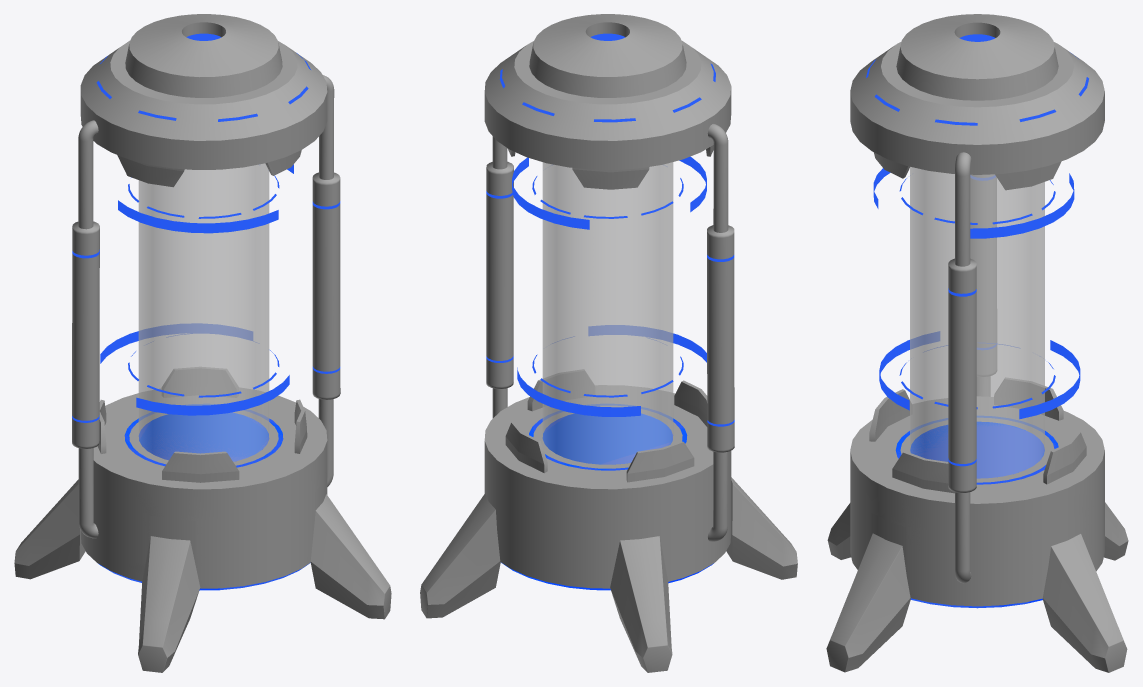
File: capsule_new_legs.glb
The picture shows the model from 3 angles, left to right: view 1: azimuth 30°, elevation 25°; view 2: azimuth 150°, elevation 25°; view 3: azimuth 270°, elevation 25°; orthographic projection. The views are drawn at different scales.
Visible parts, largest first — view 1: Cylinder.052, Cylinder.055, Cylinder.049, Cylinder.030, Cylinder.042, Cylinder.033, Cylinder.053, Cylinder.034, Cylinder.032, Cylinder.037, Cylinder.051, Cylinder.048 (+7 smaller); view 2: Cylinder.052, Cylinder.030, Cylinder.055, Cylinder.032, Cylinder.053, Cylinder.042, Cylinder.031, Cylinder.033, Cylinder.049, Cylinder.037, Cylinder.054, Cylinder.039 (+6 smaller); view 3: Cylinder.055, Cylinder.052, Cylinder.049, Cylinder.030, Cylinder.031, Cylinder.034, Cylinder.042, Cylinder.053, Cylinder.037, Cylinder.041, Cylinder.050, Cylinder.054 (+7 smaller).
Boxes of the visible parts, x1,y1,x2,y2 form: Cylinder.052: (138,163,269,461); Cylinder.055: (80,14,327,169); Cylinder.049: (86,387,326,590); Cylinder.030: (80,390,327,590); Cylinder.042: (312,172,340,399); Cylinder.033: (138,536,200,672); Cylinder.053: (72,221,99,448); Cylinder.034: (310,494,391,619); Cylinder.032: (14,479,85,579); Cylinder.037: (100,323,289,415); Cylinder.051: (162,451,239,482); Cylinder.048: (162,367,238,397); Cylinder.052: (542,162,673,464); Cylinder.030: (484,385,731,590); Cylinder.055: (484,14,731,169); Cylinder.032: (610,536,672,672); Cylinder.053: (707,225,734,452); Cylinder.042: (486,161,513,388); Cylinder.031: (420,493,500,618); Cylinder.033: (726,477,797,579); Cylinder.049: (485,385,685,509); Cylinder.037: (517,325,706,416); Cylinder.054: (626,441,694,482); Cylinder.039: (707,124,728,232); Cylinder.055: (850,14,1104,174); Cylinder.052: (910,167,1044,478); Cylinder.049: (850,397,1104,608); Cylinder.030: (850,396,1104,606); Cylinder.031: (1042,534,1127,672); Cylinder.034: (826,533,910,672); Cylinder.042: (948,258,976,492); Cylinder.053: (970,174,996,376); Cylinder.037: (879,331,1080,419); Cylinder.041: (955,152,971,266); Cylinder.050: (892,451,954,493); Cylinder.054: (994,378,1063,420).
Bounding box in the file's own units: 5.13 × 10.8 × 5.1.
